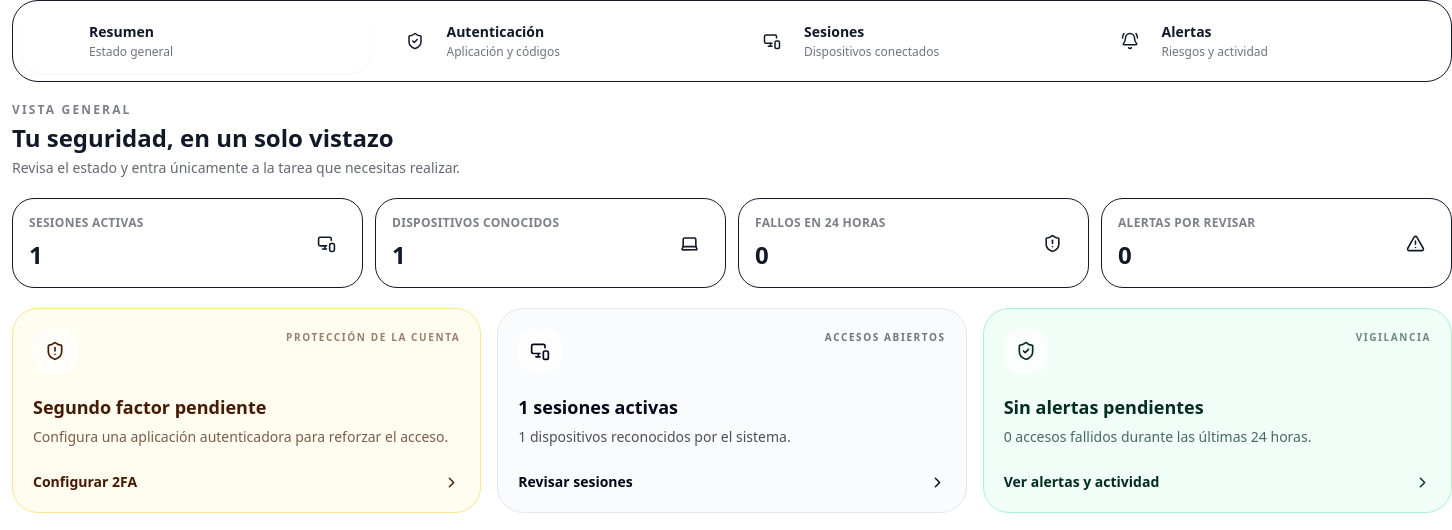
Test: Seguridad administrativa 2FA › impide que un usuario opcional active 2FA sin autorización del owner
Click the button "Autenticación Aplicación y códigos" at (553, 41), box [378,9,728,73]
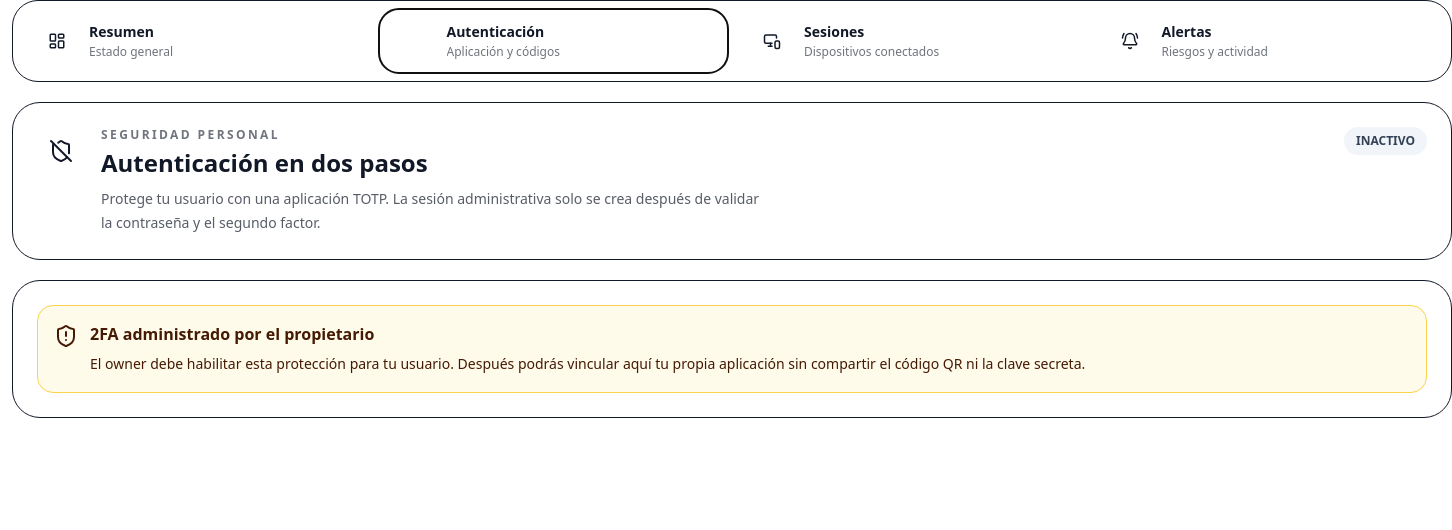
Expected: the heading "2FA administrado por el propietario" is shown, [90,323,374,345]
Expected: the button "Configurar 2FA" is gone
